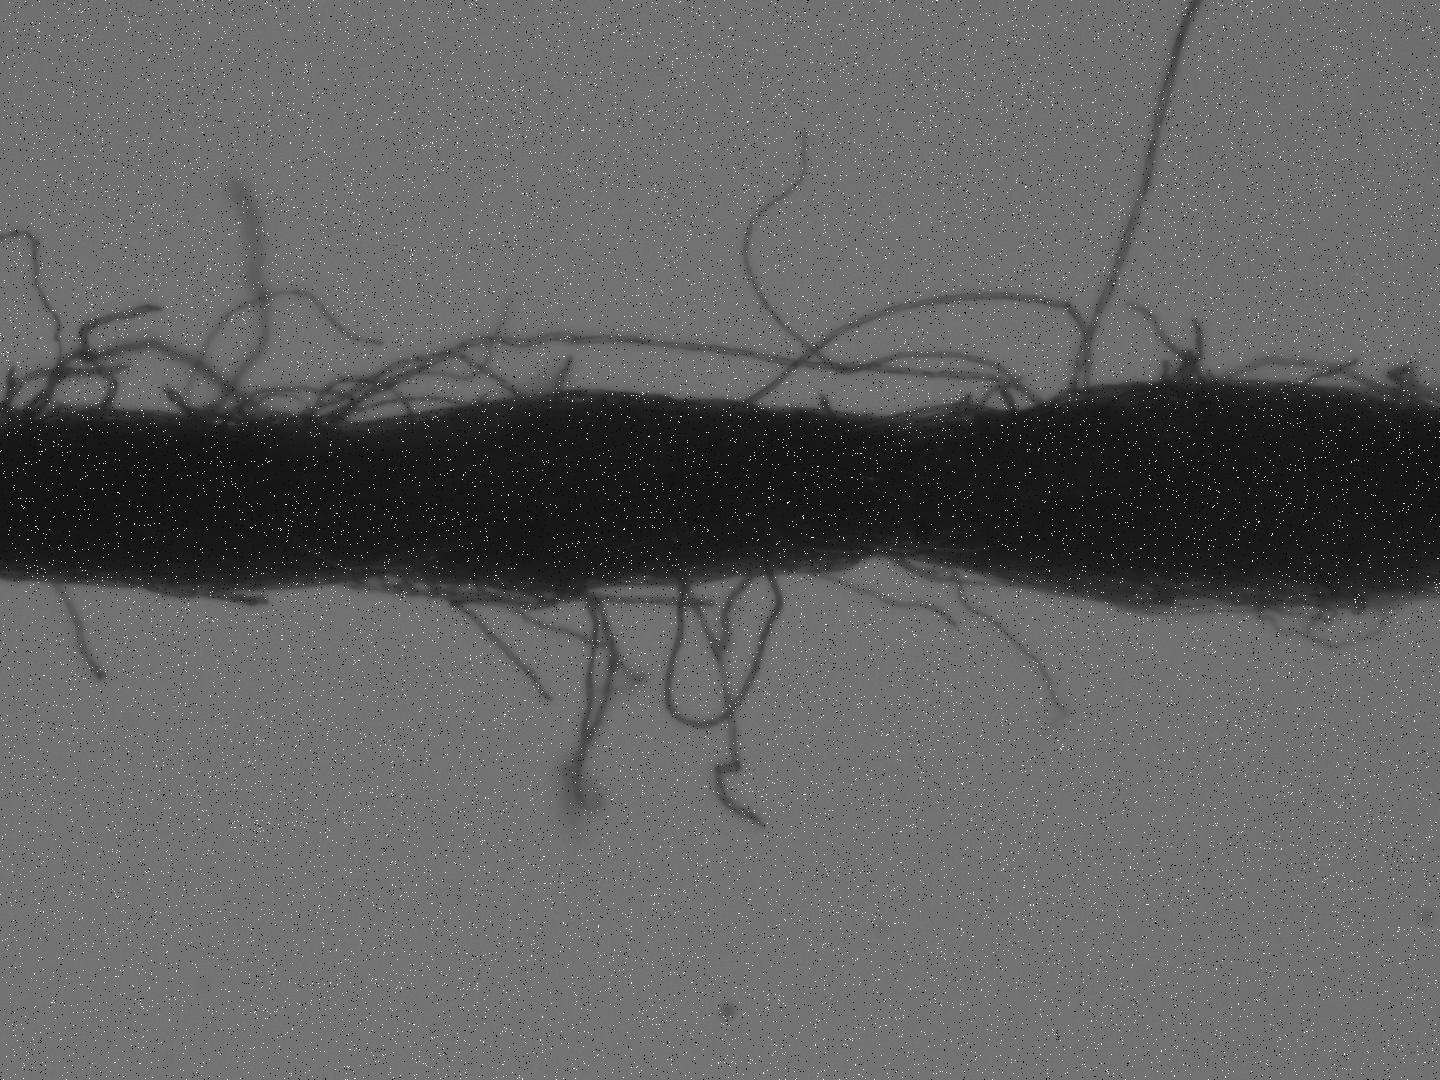loop_fiber: (744, 288, 1091, 415), (17, 336, 252, 427), (662, 563, 780, 729), (323, 352, 516, 429), (1215, 354, 1421, 400), (219, 383, 378, 430), (1250, 592, 1384, 647), (307, 374, 407, 420), (883, 550, 1002, 585), (447, 579, 574, 609), (346, 394, 460, 423), (347, 569, 431, 599), (977, 377, 1042, 411)
protruding_fiber: (1066, 0, 1208, 387), (802, 566, 955, 636), (43, 579, 110, 682), (550, 347, 577, 398)
